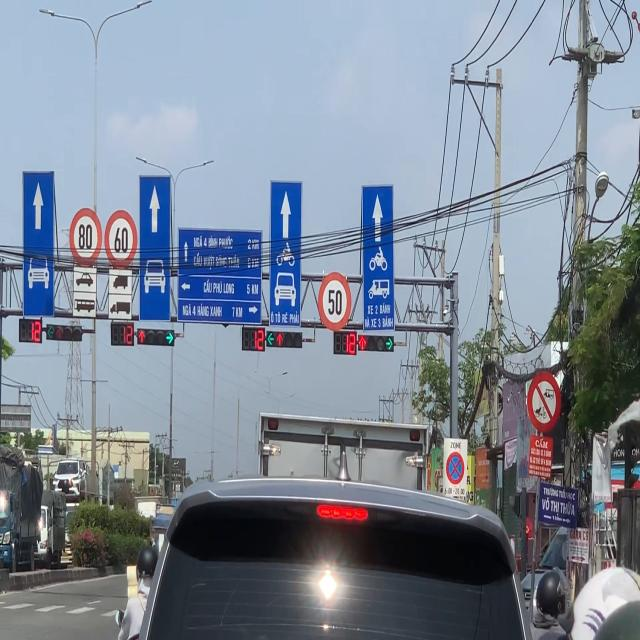Cam con lai: (527, 370, 562, 435)
Cam dung va do: (446, 450, 466, 486)
Toc do toi da: (318, 269, 350, 333), (104, 208, 137, 269), (68, 208, 102, 266)
